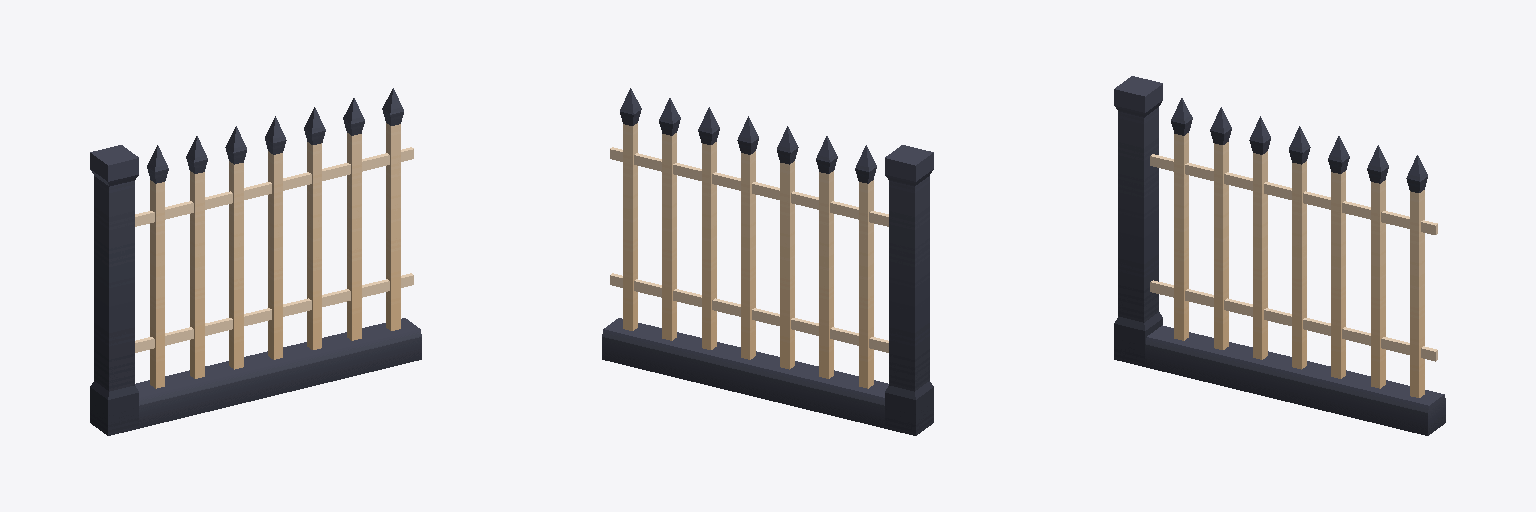
3 views of the same model, side by side, from view 1: azimuth 30°, elevation 25°; view 2: azimuth 150°, elevation 25°; view 3: azimuth 330°, elevation 25° (orthographic).
Parts seen in each view (by area): view 1: iron-fence-border-column.008; view 2: iron-fence-border-column.008; view 3: iron-fence-border-column.008.
Boxes of the visible parts, <box> form: iron-fence-border-column.008: <box>90,88,421,435</box>; iron-fence-border-column.008: <box>602,88,933,435</box>; iron-fence-border-column.008: <box>1114,76,1445,435</box>.
Size of the model in its own units: 2.45 by 2.02 by 0.245.
Materials: 1 (1 with a texture image).